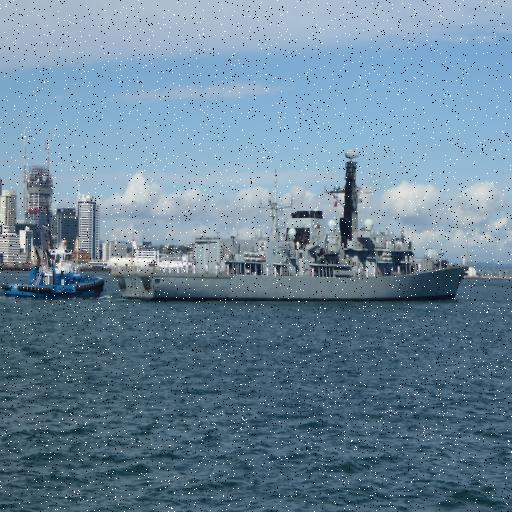Fragata: (110, 150, 469, 302)
